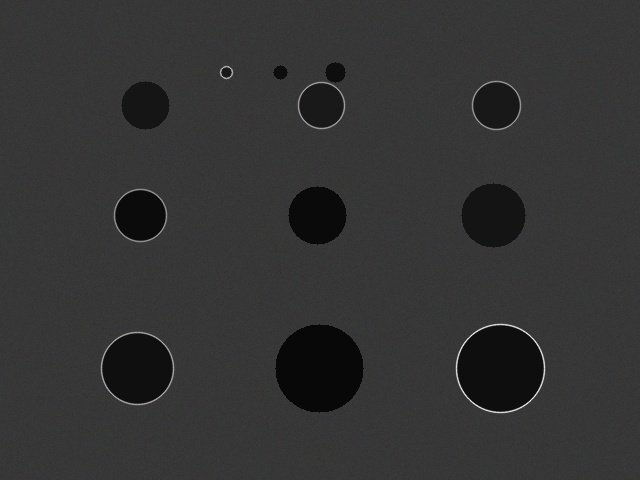hole: (275, 324, 363, 412), (456, 324, 544, 412), (101, 332, 173, 404), (461, 183, 525, 247), (288, 186, 346, 244), (114, 189, 166, 241), (121, 81, 169, 129), (472, 81, 520, 129), (298, 82, 344, 128), (325, 62, 345, 82), (273, 65, 287, 79), (220, 66, 232, 78)
